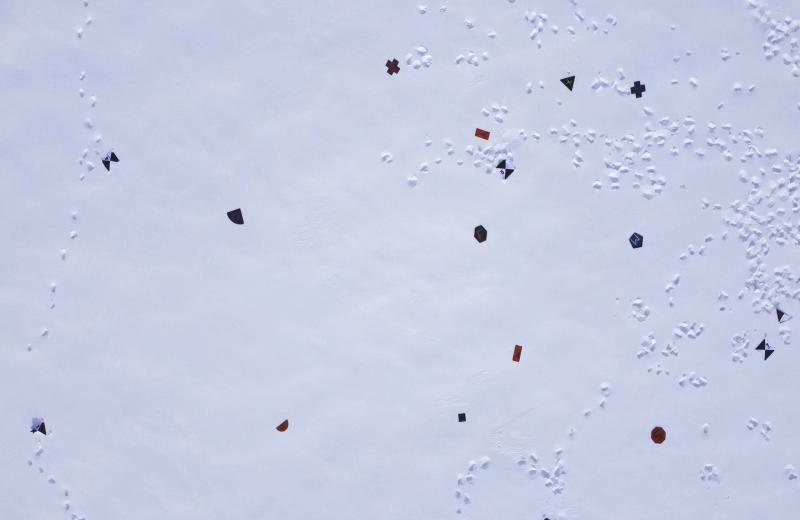Cross: (630, 80, 646, 101), (384, 57, 400, 76)
Hexagon: (474, 224, 487, 244)
Octagon: (650, 425, 667, 444)
Pentagon: (628, 232, 646, 250)
Quarter Circle: (226, 208, 244, 226)
Rectangle: (510, 343, 524, 364), (474, 126, 490, 144)
Semi Circle: (274, 417, 292, 433)
Square: (458, 412, 466, 423)
Triangle: (559, 74, 577, 93)
